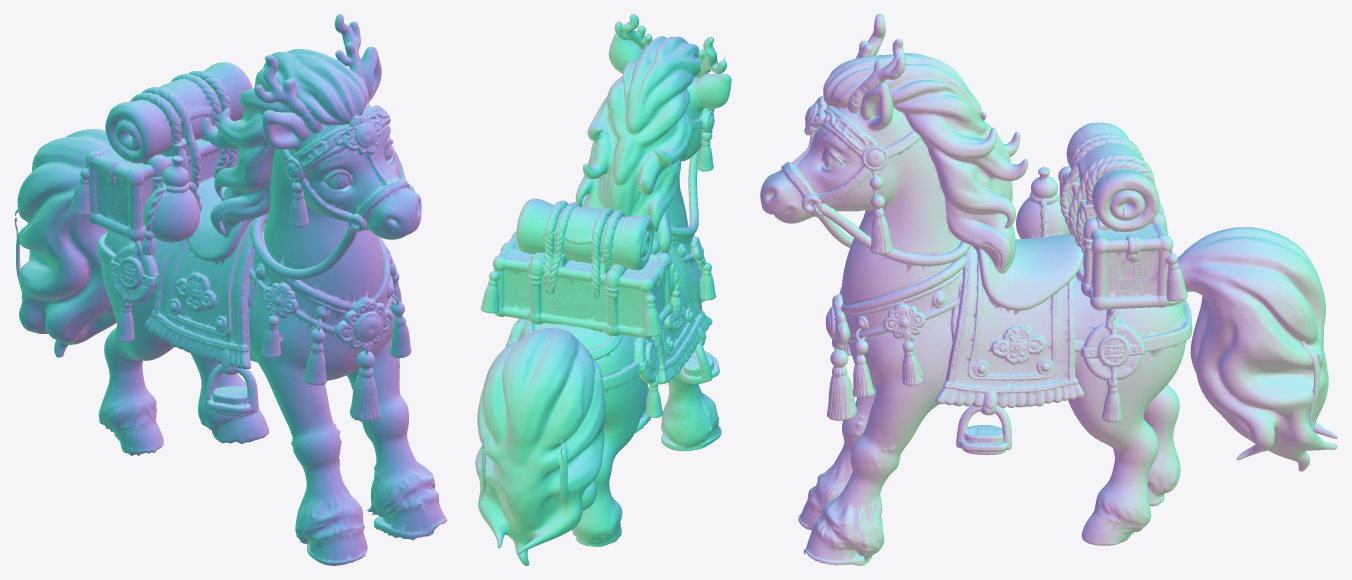
Rendered from decorative-plush-horse-normal-view.glb.
3 renders of one model, left to right at view 1: azimuth 30°, elevation 25°; view 2: azimuth 150°, elevation 25°; view 3: azimuth 270°, elevation 25°, orthographic. The views are drawn at different scales.
Parts seen in each view (by area): view 1: tripo_node_7c6c0f1d-ed9e-4d75-94f1-0318a72e4ea7; view 2: tripo_node_7c6c0f1d-ed9e-4d75-94f1-0318a72e4ea7; view 3: tripo_node_7c6c0f1d-ed9e-4d75-94f1-0318a72e4ea7.
Boxes of the visible parts, x1,y1,x2,y2 form: tripo_node_7c6c0f1d-ed9e-4d75-94f1-0318a72e4ea7: (14,14,446,565); tripo_node_7c6c0f1d-ed9e-4d75-94f1-0318a72e4ea7: (475,14,731,565); tripo_node_7c6c0f1d-ed9e-4d75-94f1-0318a72e4ea7: (760,14,1337,565).
Size of the model in its own units: 0.4439 by 0.9478 by 0.98.
Materials: 1 (1 with a texture image).
